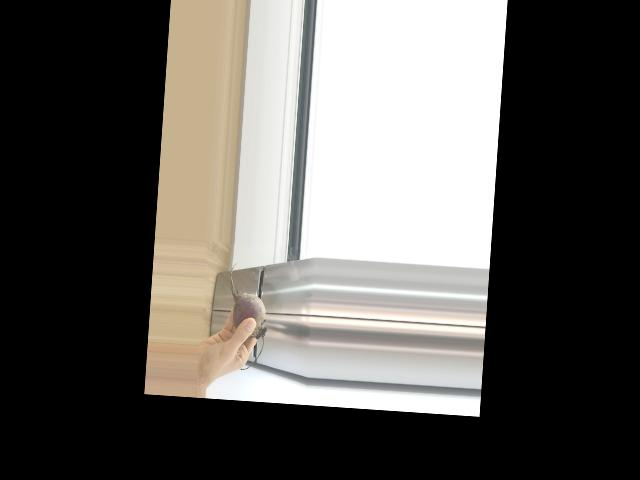beet: (224, 261, 271, 371)
